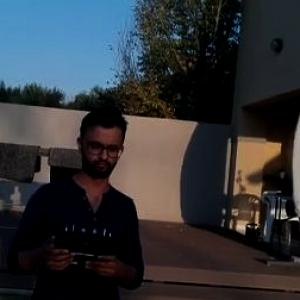follow: (0, 96, 149, 299)
